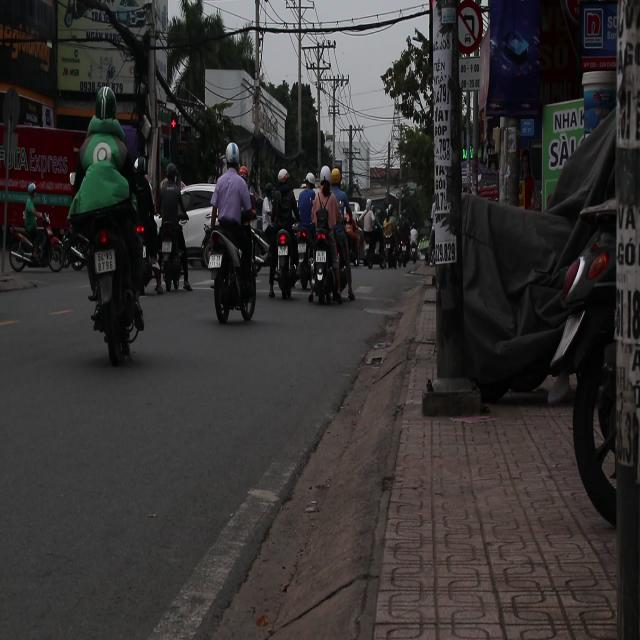car: (181, 184, 218, 268)
motorbike: (78, 205, 150, 368), (208, 216, 266, 326), (155, 219, 191, 301), (266, 220, 303, 298), (312, 226, 338, 306), (50, 226, 89, 273)
